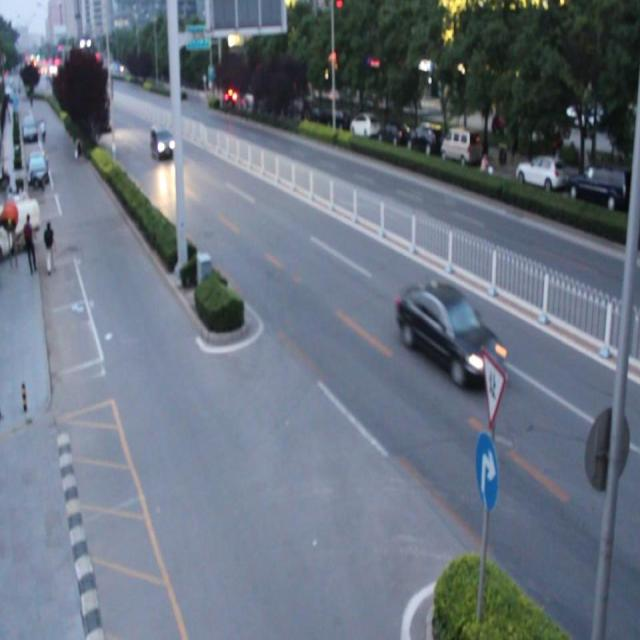car: (395, 276, 498, 390), (151, 124, 173, 159)
